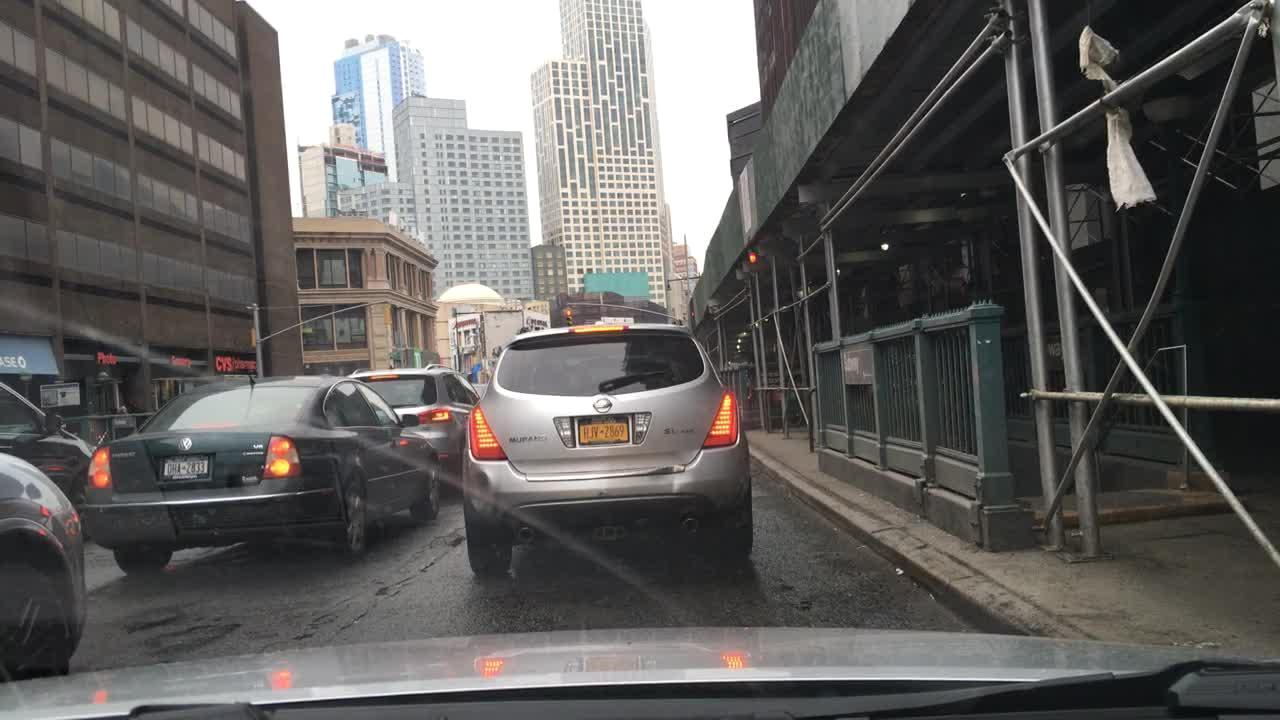Nissan: (591, 392, 617, 414)
Volkswagen: (176, 438, 195, 453)
